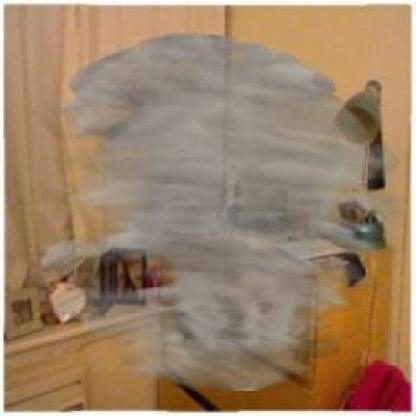Smoke: (39, 33, 403, 392)
